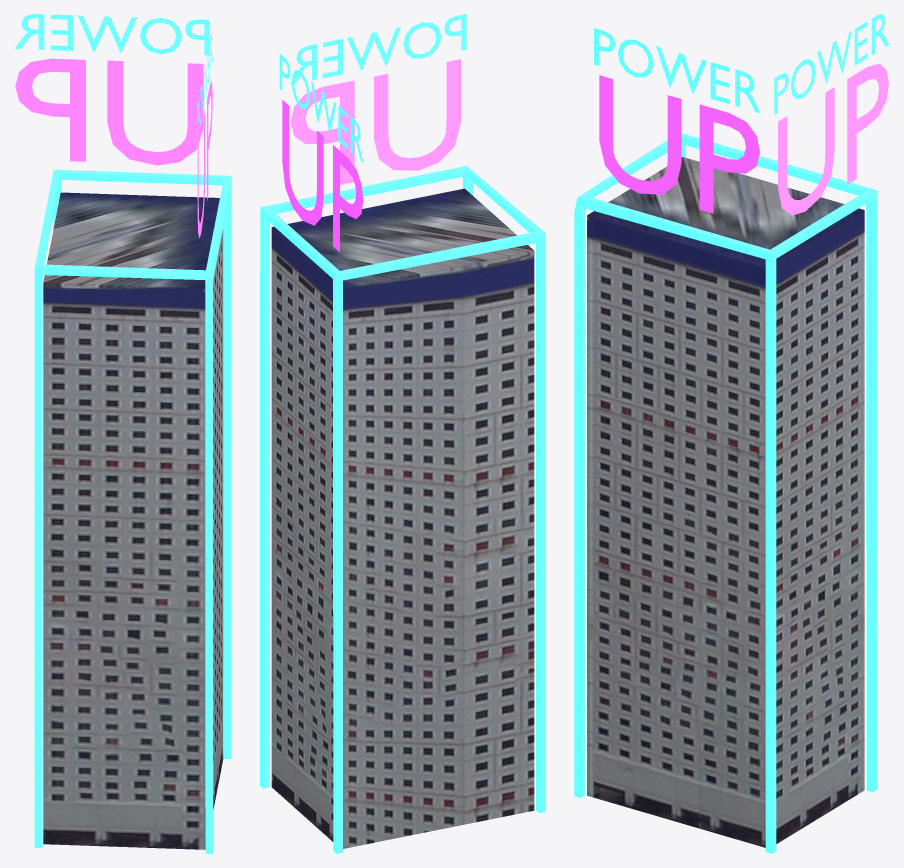
Rendered from bldg_bankOfAmerica.glb.
The picture shows the model from 3 angles, left to right: view 1: azimuth 30°, elevation 25°; view 2: azimuth 150°, elevation 25°; view 3: azimuth 270°, elevation 25°; orthographic projection. The views are drawn at different scales.
Visible parts, largest first — view 1: bldg_bankOfAmerica, lights_bankOfAmerica, lights_bankOfAmerica2b, lights_bankOfAmerica2a, lights_bankOfAmerica1b; view 2: bldg_bankOfAmerica, lights_bankOfAmerica, lights_bankOfAmerica1b, lights_bankOfAmerica2b, lights_bankOfAmerica1a, lights_bankOfAmerica2a; view 3: bldg_bankOfAmerica, lights_bankOfAmerica, lights_bankOfAmerica1b, lights_bankOfAmerica2b, lights_bankOfAmerica1a, lights_bankOfAmerica2a.
Boxes of the visible parts, <box> form: bldg_bankOfAmerica: <box>43,192,223,849</box>; lights_bankOfAmerica: <box>34,169,231,853</box>; lights_bankOfAmerica2b: <box>15,58,203,165</box>; lights_bankOfAmerica2a: <box>14,14,209,55</box>; lights_bankOfAmerica1b: <box>197,81,212,238</box>; bldg_bankOfAmerica: <box>271,188,534,848</box>; lights_bankOfAmerica: <box>260,166,545,853</box>; lights_bankOfAmerica1b: <box>290,59,460,184</box>; lights_bankOfAmerica2b: <box>282,100,363,251</box>; lights_bankOfAmerica1a: <box>290,14,466,84</box>; lights_bankOfAmerica2a: <box>279,53,363,162</box>; bldg_bankOfAmerica: <box>587,157,864,847</box>; lights_bankOfAmerica: <box>574,133,876,853</box>; lights_bankOfAmerica1b: <box>599,75,759,213</box>; lights_bankOfAmerica2b: <box>778,63,888,215</box>; lights_bankOfAmerica1a: <box>594,28,760,113</box>; lights_bankOfAmerica2a: <box>774,14,889,114</box>.
Bounding box in the file's own units: 5.83 × 17.06 × 6.36.
3 materials, 1 textured.
